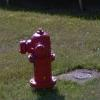Hydrant: (15, 22, 60, 96)
